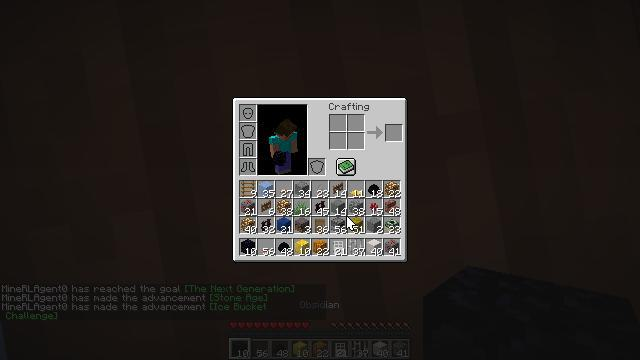cursor: (346, 215, 356, 231)
